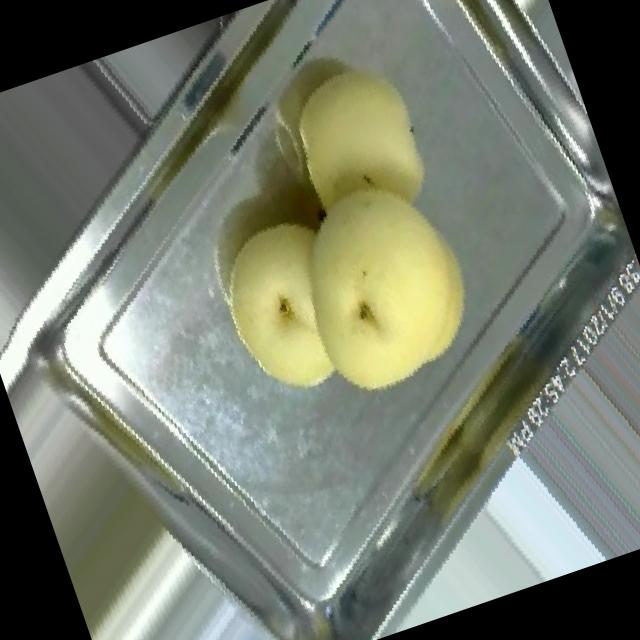Fruit: (177, 138, 523, 460), (242, 22, 482, 284), (12, 360, 232, 640)
